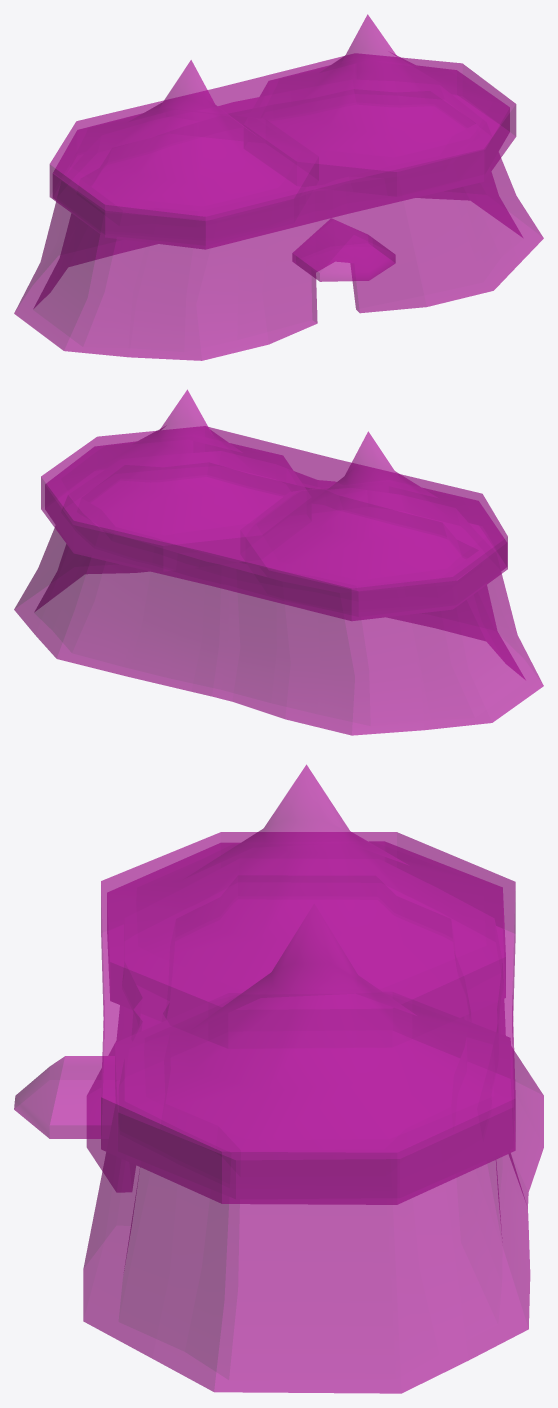
The model's file is SM_Prop_Tent_Large_01_Collision.fbx.
3 renders of one model, top to bottom at view 1: azimuth 30°, elevation 25°; view 2: azimuth 150°, elevation 25°; view 3: azimuth 270°, elevation 25°, orthographic. The views are drawn at different scales.
Visible parts, largest first — view 1: SM_Prop_Tent_Large_01_Collision; view 2: SM_Prop_Tent_Large_01_Collision; view 3: SM_Prop_Tent_Large_01_Collision.
Part boxes in pixels (x1,y1,x2,y2): SM_Prop_Tent_Large_01_Collision: (14,14,543,360); SM_Prop_Tent_Large_01_Collision: (14,389,543,735); SM_Prop_Tent_Large_01_Collision: (14,764,543,1393).
Size of the model in its own units: 2534 by 1200 by 1531.
